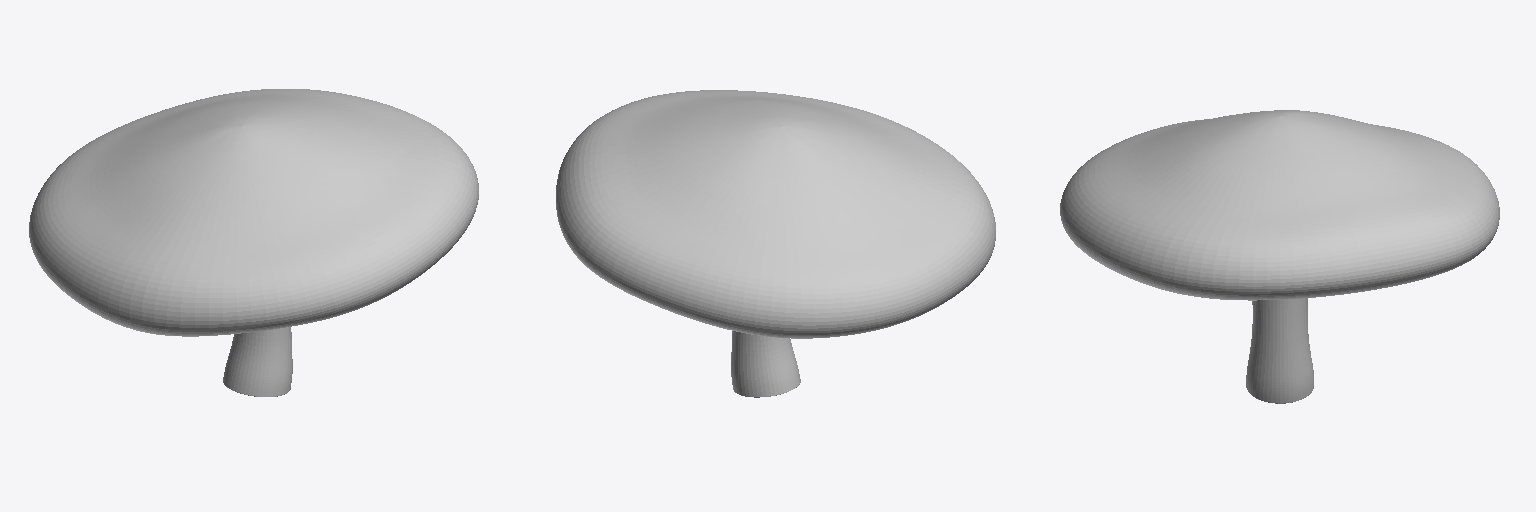
File: Mush.obj
3 renders of one model, left to right at view 1: azimuth 30°, elevation 25°; view 2: azimuth 150°, elevation 25°; view 3: azimuth 270°, elevation 25°, orthographic.
Visible parts, largest first — view 1: 10192_MushroomShitake_v1-L3; view 2: 10192_MushroomShitake_v1-L3; view 3: 10192_MushroomShitake_v1-L3.
Part boxes in pixels (x1,y1,x2,y2): 10192_MushroomShitake_v1-L3: (29,89,478,396); 10192_MushroomShitake_v1-L3: (556,90,995,397); 10192_MushroomShitake_v1-L3: (1060,110,1499,403).
Size of the model in its own units: 5.48 by 3.64 by 5.45.